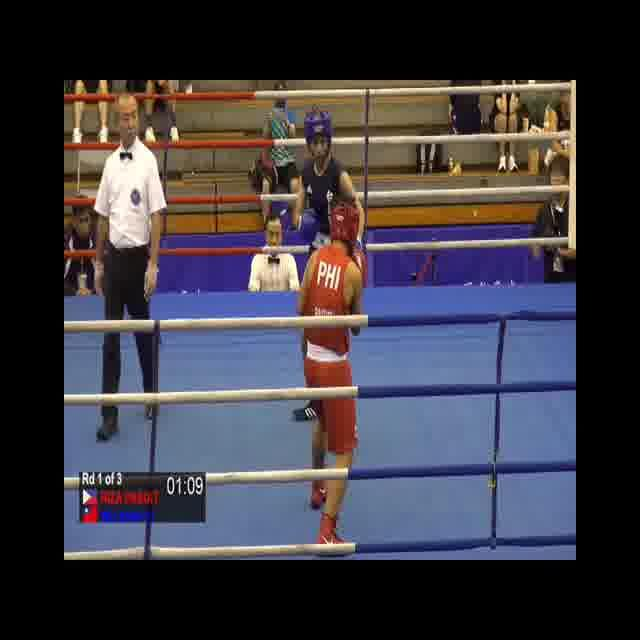blue-player: (286, 104, 369, 450)
red-player: (296, 200, 371, 556)
referee: (89, 92, 168, 444)
